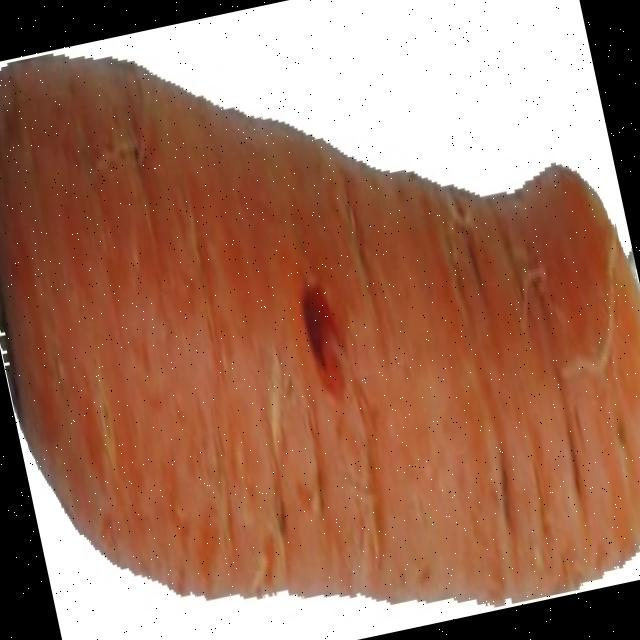carrot: (0, 57, 640, 601)
